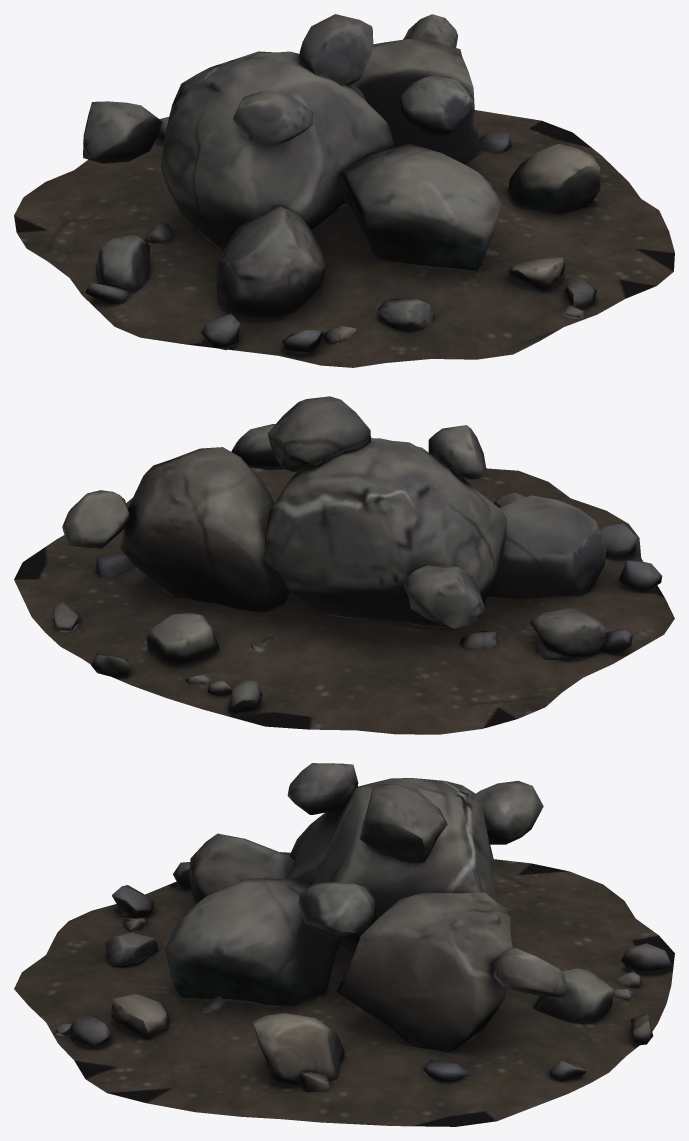
File: cavern_boulders.glb
The picture shows the model from 3 angles, top to bottom: view 1: azimuth 30°, elevation 25°; view 2: azimuth 150°, elevation 25°; view 3: azimuth 270°, elevation 25°; orthographic projection. The views are drawn at different scales.
Visible parts, largest first — view 1: cavern_boulders; view 2: cavern_boulders; view 3: cavern_boulders.
Boxes of the visible parts, x1,y1,x2,y2 form: cavern_boulders: (14, 14, 674, 367); cavern_boulders: (14, 396, 674, 734); cavern_boulders: (14, 763, 674, 1126).
Size of the model in its own units: 2.37 by 0.9236 by 2.41.
Materials: 1 (1 with a texture image).
